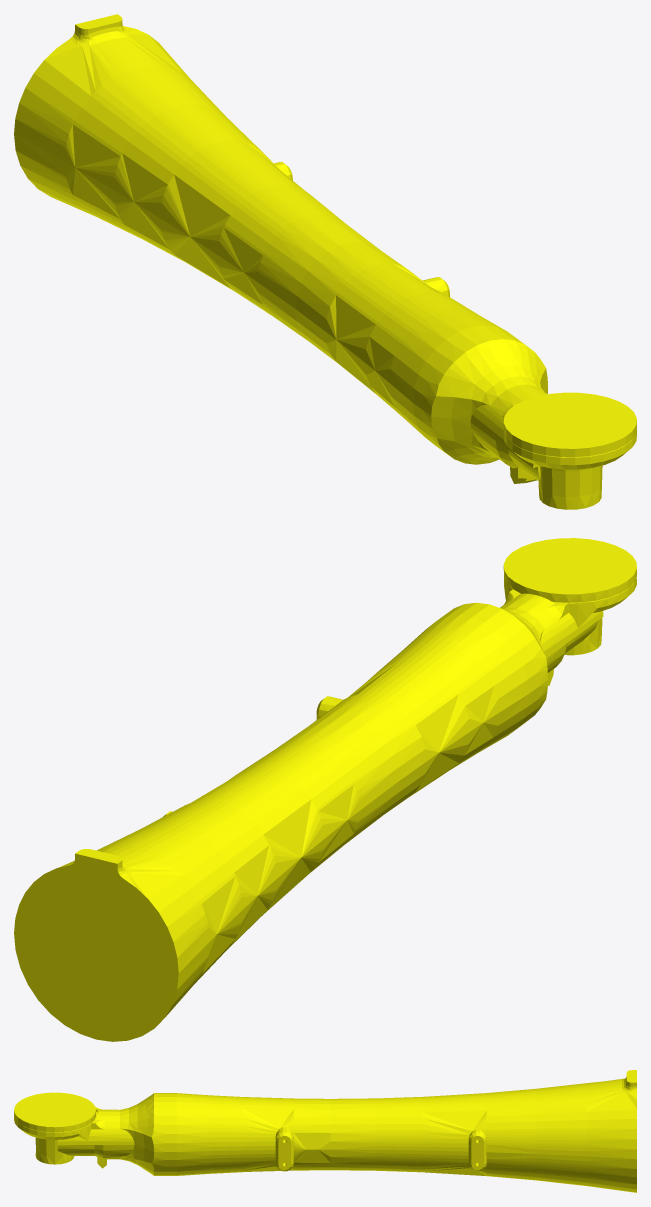
3 views of the same model, one above another, from view 1: azimuth 30°, elevation 25°; view 2: azimuth 150°, elevation 25°; view 3: azimuth 270°, elevation 25° (orthographic). The views are drawn at different scales.
Visible parts, largest first — view 1: node; view 2: node; view 3: node.
Boxes of the visible parts, x1,y1,x2,y2 form: node: (14, 14, 636, 509); node: (14, 538, 636, 1041); node: (14, 1070, 636, 1192).
Size of the model in its own units: 206 by 216 by 1097.
